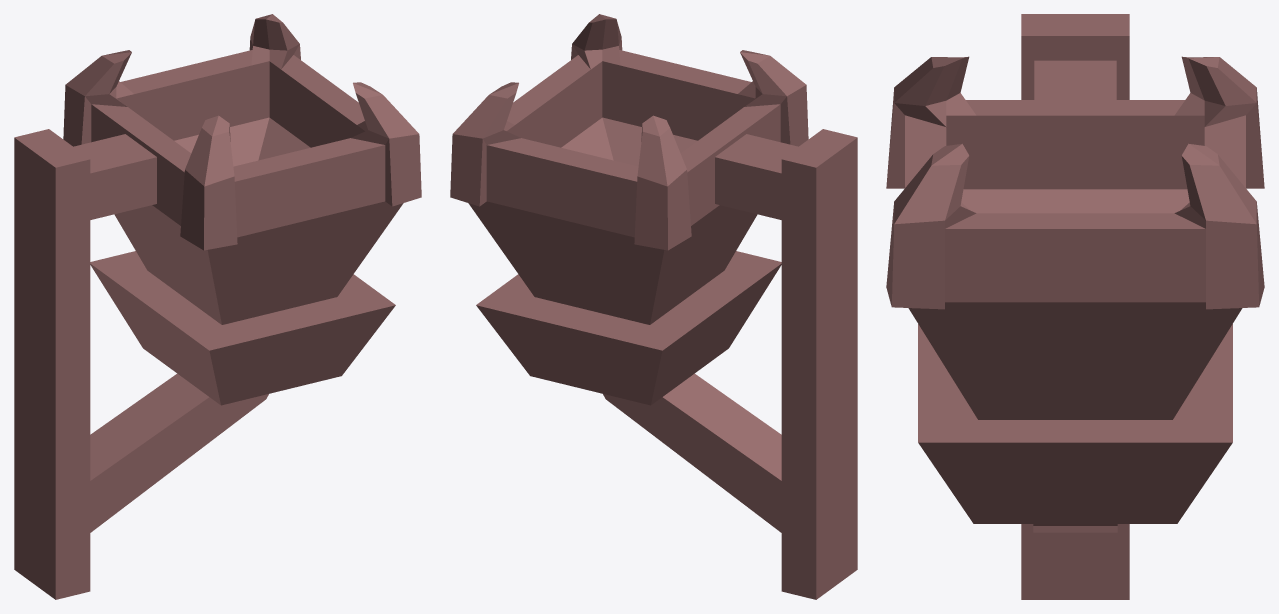
The model's file is wall_tochi.FBX.
The picture shows the model from 3 angles, left to right: view 1: azimuth 30°, elevation 25°; view 2: azimuth 150°, elevation 25°; view 3: azimuth 270°, elevation 25°; orthographic projection. The views are drawn at different scales.
Visible parts, largest first — view 1: Wall _ torch; view 2: Wall _ torch; view 3: Wall _ torch.
Boxes of the visible parts, x1,y1,x2,y2 form: Wall _ torch: [14, 14, 421, 599]; Wall _ torch: [450, 14, 857, 599]; Wall _ torch: [886, 14, 1264, 599].
Size of the model in its own units: 3.55 by 4.95 by 2.79.
